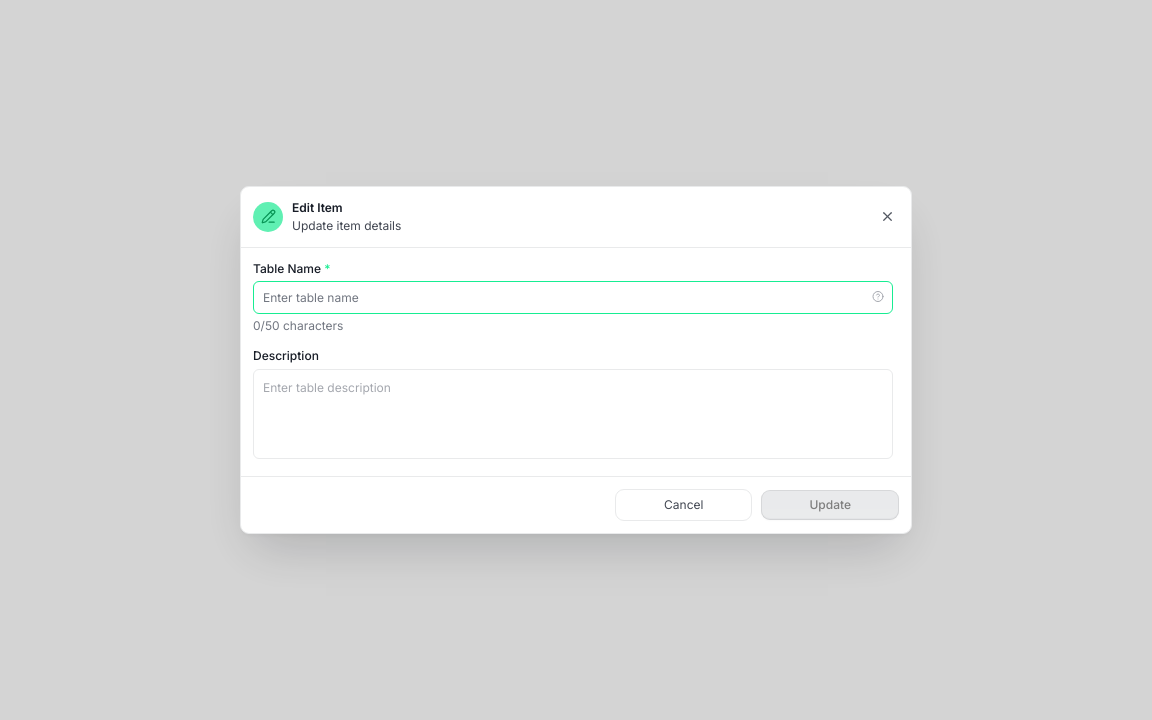
it: EditItemModal › form validation for table › shows validation error for duplicate table name
The image size is (1152, 720).
Type "Existing Table" into the field labelled "Table Name *" at coordinates (573, 297), box [253,281,892,314]
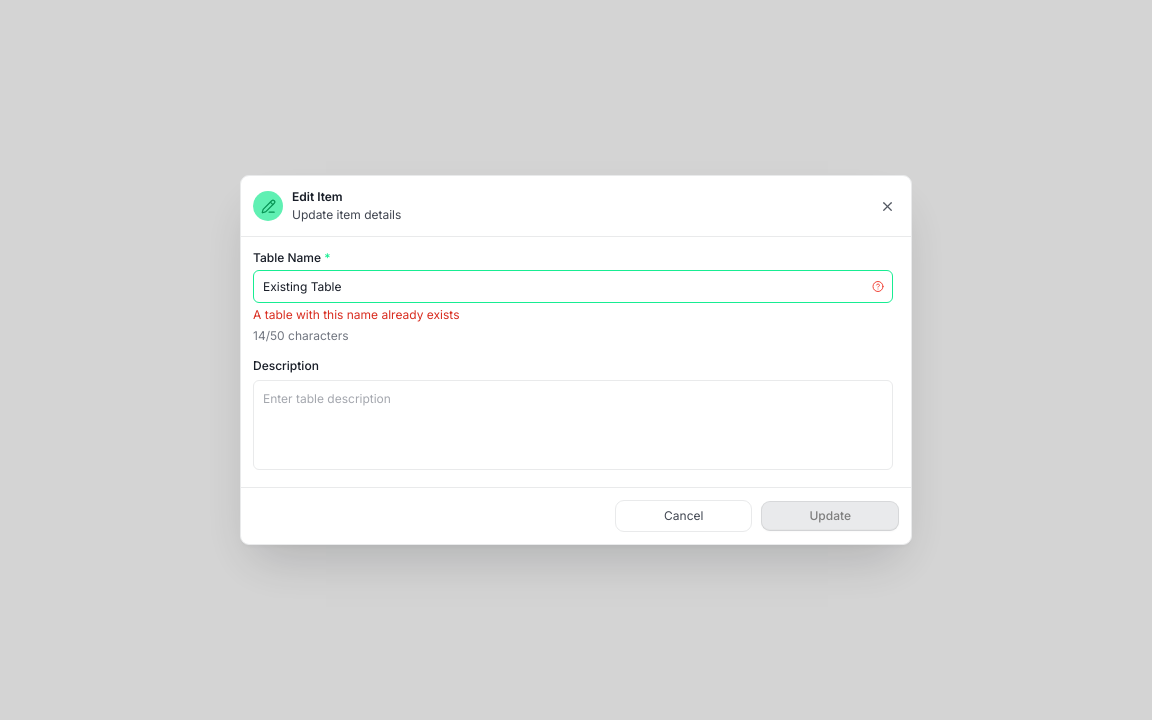
Check: the text "A table with this name already exists" is shown, box [253,307,460,322]
